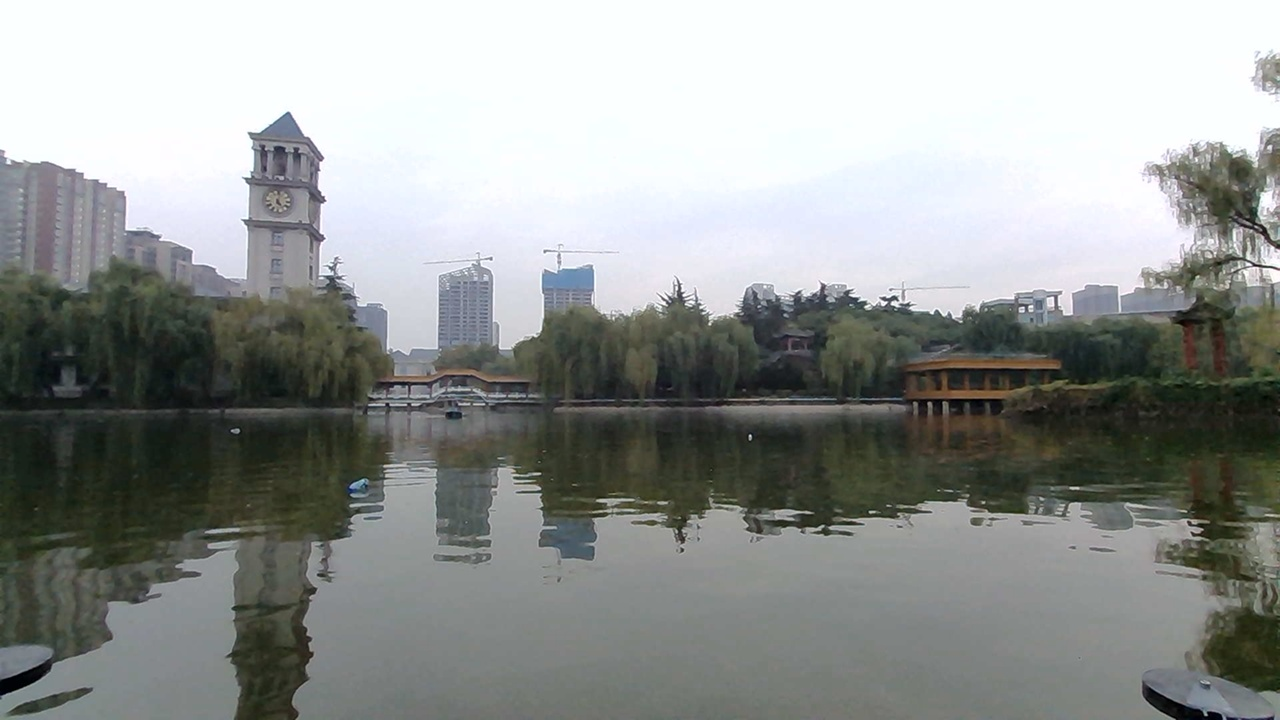bottle: (340, 475, 379, 499), (732, 421, 763, 448), (228, 417, 251, 435)
